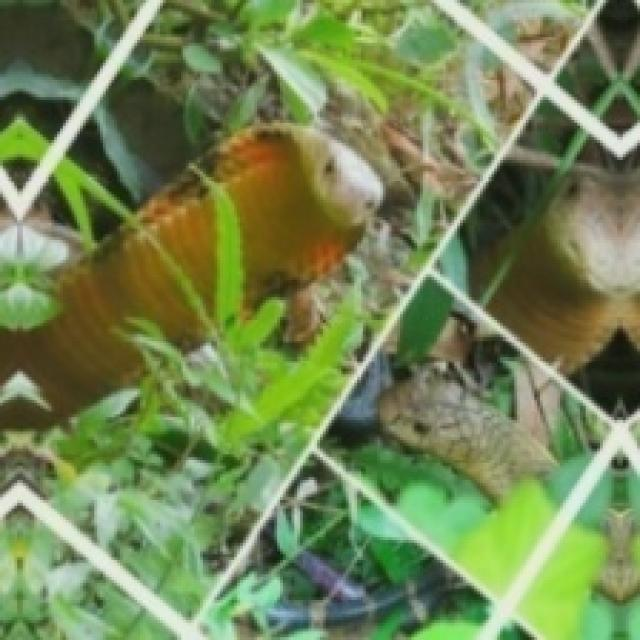king cobra: (17, 174, 214, 411), (209, 123, 380, 300)
